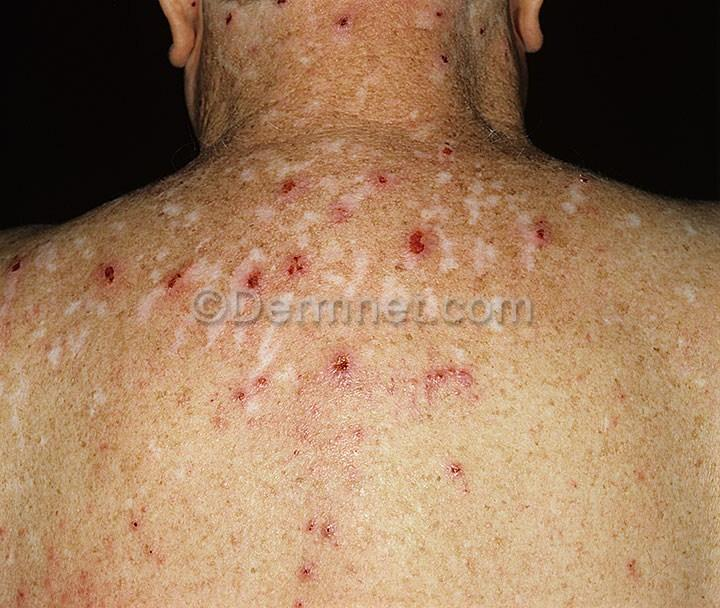Eczema: (326, 336, 489, 527), (0, 427, 143, 608), (168, 345, 317, 506), (249, 147, 387, 296), (372, 145, 505, 294), (575, 426, 666, 605), (484, 169, 612, 287), (42, 209, 236, 285), (256, 490, 346, 608), (314, 0, 416, 95), (410, 0, 495, 81), (203, 0, 310, 52)
